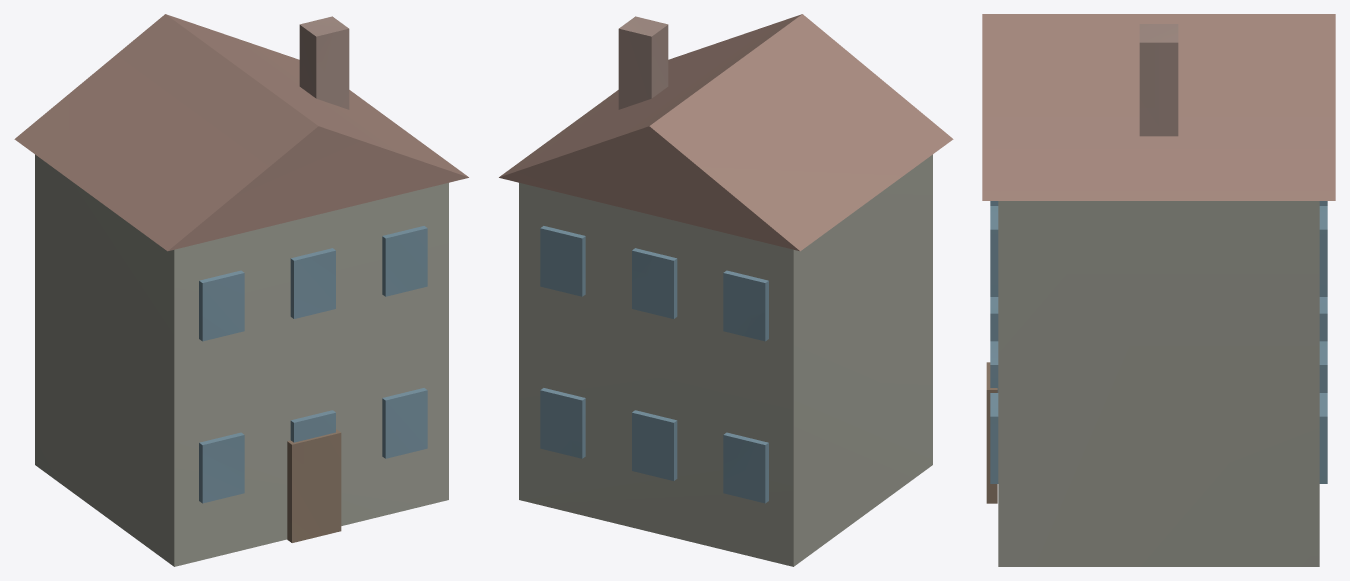
The model's file is chalet-02.glb.
The picture shows the model from 3 angles, left to right: view 1: azimuth 30°, elevation 25°; view 2: azimuth 150°, elevation 25°; view 3: azimuth 270°, elevation 25°; orthographic projection. The views are drawn at different scales.
Visible parts, largest first — view 1: world; view 2: world; view 3: world.
Boxes of the visible parts, x1,y1,x2,y2 form: world: [14, 14, 468, 566]; world: [499, 14, 953, 566]; world: [982, 14, 1335, 566].
Bounding box in the file's own units: 1.28 × 1.77 × 1.13.
